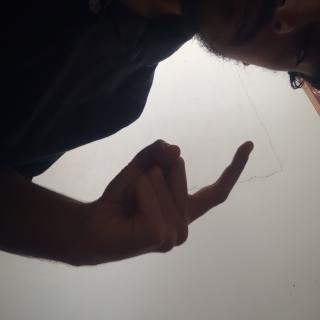RAA: (99, 87, 202, 320)
